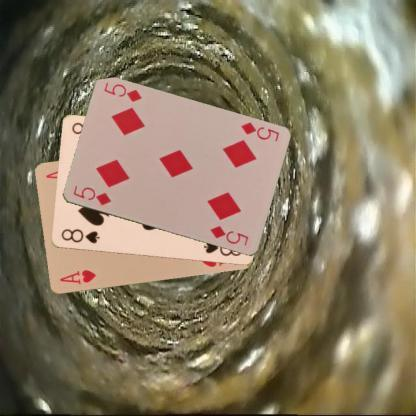5d: (70, 183, 112, 207), (238, 119, 280, 142)
8s: (58, 226, 100, 245)
Ah: (57, 267, 97, 287)
